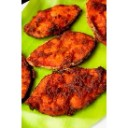seerfish: (32, 68, 108, 116), (23, 2, 82, 41), (28, 33, 93, 68), (87, 1, 108, 47)
